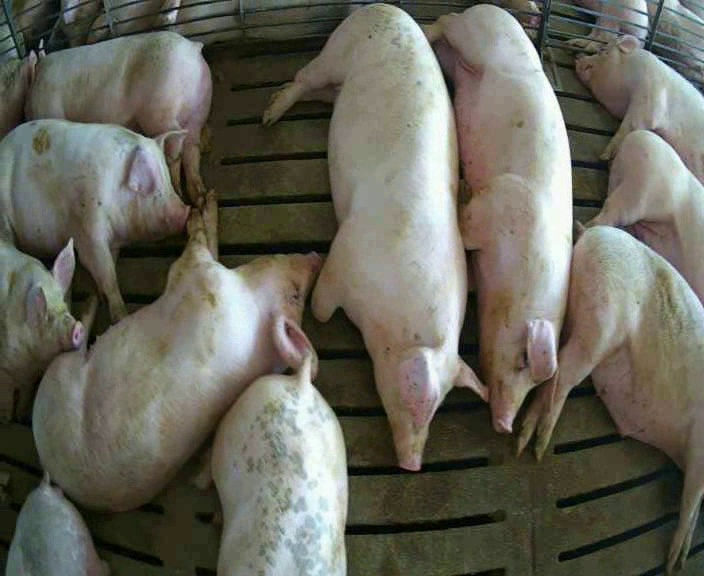pig: (263, 4, 486, 470), (33, 191, 320, 507), (517, 220, 703, 573), (425, 5, 571, 432), (191, 354, 347, 574), (23, 32, 211, 204), (588, 130, 703, 303), (576, 36, 703, 183), (0, 241, 82, 420), (6, 472, 109, 574)
